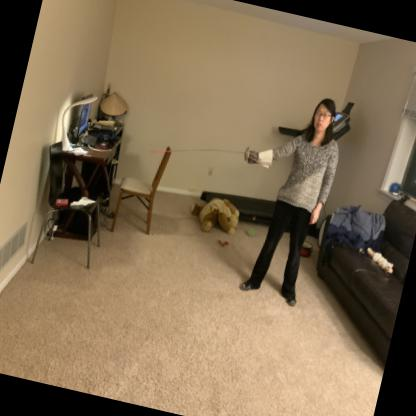foil-tip: (145, 141, 162, 165)
hand-and-foil: (138, 118, 276, 197)
